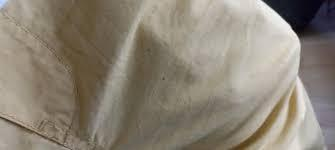mustard: (174, 68, 229, 91)
